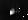person: (12, 7, 21, 18)
